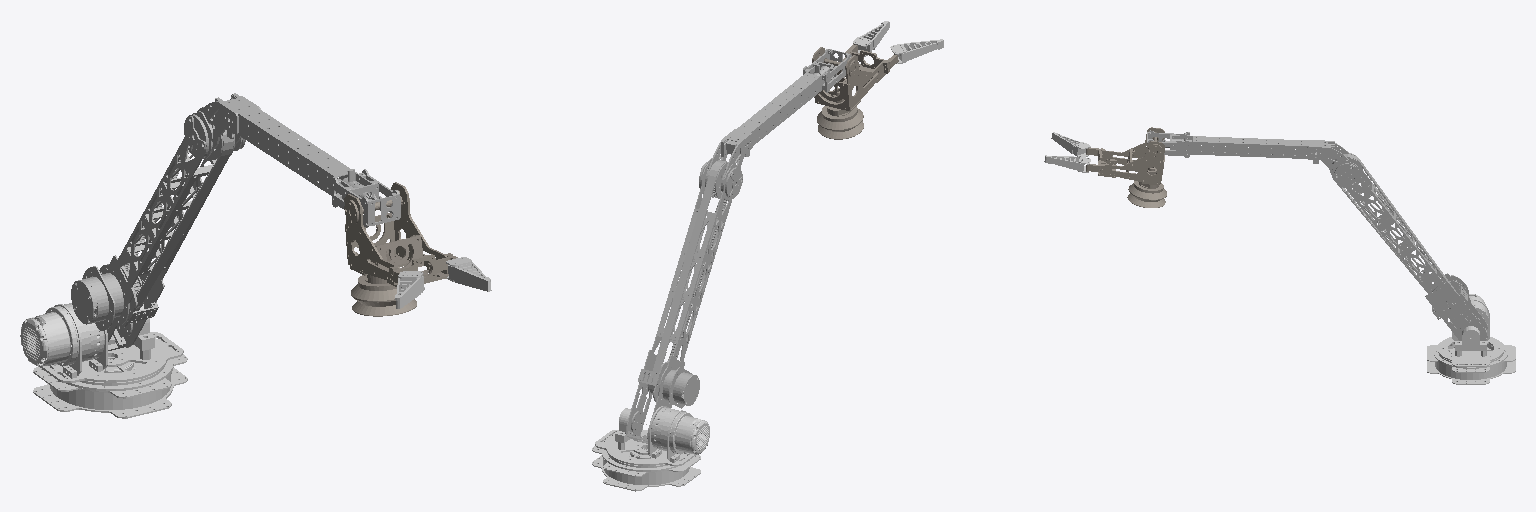
The robot description file, URDF, robot "arm_all":
<?xml version="1.0" encoding="utf-8" ?>
<!-- This URDF was automatically created by SolidWorks to URDF Exporter! Originally created by [author] ([email redacted]) 
     Commit Version: 1.6.0-4-g7f85cfe  Build Version: 1.6.7995.38578
     For more information, please see http://wiki.ros.org/sw_urdf_exporter -->
<robot name="arm_all">


<link name="world"/>

<joint name="fixed_base_joint" type="fixed">
    <parent link="world"/>
    <child link="base_link"/>
    <origin xyz="0 0 0" rpy="0 0 0"/>
</joint>


    <link name="base_link">
    <inertial>
      <origin
        xyz="-1.88965214434326E-05 0.0211283085658793 2.88501980018766E-05"
        rpy="0 0 0" />
      <mass
        value="0.65713178608687" />
      <inertia
        ixx="0.00126176729018005"
        ixy="2.52839018847434E-08"
        ixz="-3.62884926508966E-07"
        iyy="0.00249239605965953"
        iyz="-3.06356495865232E-08"
        izz="0.00125428302491633" />
    </inertial>
        <visual>
            <origin xyz="0 0 0" rpy="0 0 0" />
            <geometry>
                <mesh filename="package://arm_all/meshes/base_link.STL" />
            </geometry>
            <material name="">
                <color rgba="0.847058823529412 0.847058823529412 0.847058823529412 1" />
            </material>
        </visual>
        <collision>
            <origin xyz="0 0 0" rpy="0 0 0" />
            <geometry>
                <mesh filename="package://arm_all/meshes/base_link.STL" />
            </geometry>
        </collision>
    </link>
    <link name="link1">
    <inertial>
      <origin
        xyz="-6.50420272596414E-06 -0.0220639376985768 -0.00046997962461109"
        rpy="0 0 0" />
      <mass
        value="0.333784886280084" />
      <inertia
        ixx="0.000351722248401474"
        ixy="1.36600184498728E-12"
        ixz="-1.33484971668896E-10"
        iyy="0.000499503930329465"
        iyz="-1.63022774448878E-08"
        izz="0.000289258919735572" />
    </inertial>
        <visual>
            <origin xyz="0 0 0" rpy="0 0 0" />
            <geometry>
                <mesh filename="package://arm_all/meshes/link1.STL" />
            </geometry>
            <material name="">
                <color rgba="0.847058823529412 0.847058823529412 0.847058823529412 1" />
            </material>
        </visual>
        <collision>
            <origin xyz="0 0 0" rpy="0 0 0" />
            <geometry>
                <mesh filename="package://arm_all/meshes/link1.STL" />
            </geometry>
        </collision>
    </link>
    <joint name="joint1" type="continuous">
        <origin rpy="-1.5708 0 -1.5708" xyz="0 0 0.0413" />
        <parent link="base_link" />
        <child link="link1" />
        <axis xyz="0 1 0" />
    </joint>
    <!-- <joint name="joint1" type="revolute">
    <origin rpy="-1.5708 0 -1.5708" xyz="0 0 0.0413" />
    <parent link="base_link" />
    <child link="link1" />
    <axis xyz="0 1 0" />
    <limit lower="-3.14" upper="3.14" effort="10" velocity="1.0"/>
</joint> -->
    <link name="link2">
    <inertial>
      <origin
        xyz="0.134772098555545 0.226393581441748 0.00612814215173783"
        rpy="0 0 0" />
      <mass
        value="0.827122048748664" />
      <inertia
        ixx="0.00408491785355023"
        ixy="-0.00229408604342064"
        ixz="-1.21881927334501E-10"
        iyy="0.00160055805144718"
        iyz="-1.67553014233216E-08"
        izz="0.00555583774732216" />
    </inertial>
        <visual>
            <origin xyz="0 0 0" rpy="0 0 0" />
            <geometry>
                <mesh filename="package://arm_all/meshes/link2.STL" />
            </geometry>
            <material name="">
                <color rgba="0.752941176470588 0.752941176470588 0.752941176470588 1" />
            </material>
        </visual>
        <collision>
            <origin xyz="0 0 0" rpy="0 0 0" />
            <geometry>
                <mesh filename="package://arm_all/meshes/link2.STL" />
            </geometry>
        </collision>
    </link>
    <joint name="joint2" type="continuous">
        <origin xyz="0 -0.0449999999999999 0" rpy="3.14159265358979 0 0.0776243284743282" />
        <parent link="link1" />
        <child link="link2" />
        <axis xyz="0 0 1" />
    </joint>
        <!-- <joint name="joint2" type="revolute">
    <origin rpy="3.14159265358979 0 0.0776243284743282" xyz="0 -0.0449999999999999 0" />
    <parent link="link1" />
    <child link="link2" />
    <axis xyz="0 0 1" />
    <limit lower="-3.14" upper="3.14" effort="10" velocity="1.0"/>
</joint> -->
    <link name="link3">
    <inertial>
      <origin
        xyz="0.14609262858064 0.0573447220053238 -1.32103128163748E-05"
        rpy="0 0 0" />
      <mass
        value="0.322775937743134" />
      <inertia
        ixx="0.000125581010505456"
        ixy="-0.000175503683436308"
        ixz="-1.0080412736428E-11"
        iyy="0.00102950672738152"
        iyz="6.86215120964268E-11"
        izz="0.00111046718193839" />
    </inertial>
        <visual>
            <origin xyz="0 0 0" rpy="0 0 0" />
            <geometry>
                <mesh filename="package://arm_all/meshes/link3.STL" />
            </geometry>
            <material name="">
                <color rgba="0.752941176470588 0.752941176470588 0.752941176470588 1" />
            </material>
        </visual>
        <collision>
            <origin xyz="0 0 0" rpy="0 0 0" />
            <geometry>
                <mesh filename="package://arm_all/meshes/link3.STL" />
            </geometry>
        </collision>
    </link>
    <joint name="joint3" type="continuous">
        <origin xyz="0.234710656582035 0.393966153099294 0" rpy="0 0 -0.0458697032339479" />
        <parent link="link2" />
        <child link="link3" />
        <axis xyz="0 0 1" />
    </joint>
            <!-- <joint name="joint3" type="revolute">
    <origin rpy="0 0 -0.0458697032339479" xyz="0.234710656582035 0.393966153099294 0" />
    <parent link="link2" />
    <child link="link3" />
    <axis xyz="0 0 1" />
    <limit lower="-3.14" upper="3.14" effort="10" velocity="1.0"/>
</joint> -->
    <link name="link4">
    <inertial>
      <origin
        xyz="-0.0483821633151282 -0.0245616027376705 1.07514025356192E-05"
        rpy="0 0 0" />
      <mass
        value="0.377132174594097" />
      <inertia
        ixx="0.000259104564788337"
        ixy="-3.47286921823512E-05"
        ixz="-6.33132149766361E-09"
        iyy="0.000192115538025694"
        iyz="2.31982726278168E-07"
        izz="0.000221724975669375" />
    </inertial>
        <visual>
            <origin xyz="0 0 0" rpy="0 0 0" />
            <geometry>
                <mesh filename="package://arm_all/meshes/link4.STL" />
            </geometry>
            <material name="">
                <color rgba="0.647058823529412 0.619607843137255 0.588235294117647 1" />
            </material>
        </visual>
        <collision>
            <origin xyz="0 0 0" rpy="0 0 0" />
            <geometry>
                <mesh filename="package://arm_all/meshes/link4.STL" />
            </geometry>
        </collision>
    </link>
    <joint name="joint4" type="continuous">
        <origin xyz="0.399188356386981 0.112595227473441 0" rpy="0 0 1.80974775191367" />
        <parent link="link3" />
        <child link="link4" />
        <axis xyz="0 0 1" />
    </joint>
                <!-- <joint name="joint4" type="revolute">
        <origin xyz="0.399188356386981 0.112595227473441 0" rpy="0 0 1.80974775191367" />
    <parent link="link3" />
    <child link="link4" />
    <axis xyz="0 0 1" />
    <limit lower="-3.14" upper="3.14" effort="10" velocity="1.0"/>
</joint> -->
    <link name="left_end">
    <inertial>
      <origin
        xyz="0.165934470985643 0.0326110187543487 -0.0559999994890883"
        rpy="0 0 0" />
      <mass
        value="0.0230133687347436" />
      <inertia
        ixx="1.91581568607213E-06"
        ixy="1.58592840958828E-07"
        ixz="-4.59298269044332E-13"
        iyy="1.08150257266556E-05"
        iyz="-6.52852556405479E-14"
        izz="1.18994762991137E-05" />
    </inertial>
        <visual>
            <origin xyz="0 0 0" rpy="0 0 0" />
            <geometry>
                <mesh filename="package://arm_all/meshes/left_end.STL" />
            </geometry>
            <material name="">
                <color rgba="0.847058823529412 0.847058823529412 0.847058823529412 1" />
            </material>
        </visual>
        <collision>
            <origin xyz="0 0 0" rpy="0 0 0" />
            <geometry>
                <mesh filename="package://arm_all/meshes/left_end.STL" />
            </geometry>
        </collision>
    </link>
    <joint name="joint5" type="continuous">
        <origin xyz="0 0 -0.0066881981068947" rpy="-1.5707963267949 -0.0524449607991221 -1.54351099917729" />
        <parent link="link4" />
        <child link="left_end" />
        <axis xyz="0 0 1" />
    </joint>
<!-- <joint name="joint5" type="revolute">
        <origin xyz="0 0 -0.0066881981068947" rpy="-1.5707963267949 -0.0524449607991221 -1.54351099917729" />
    <parent link="link4" />
    <child link="left_end" />
    <axis xyz="0 0 1" />
    <limit lower="-3.14" upper="3.14" effort="10" velocity="1.0"/>
</joint> -->
    <link name="right_end">
    <inertial>
      <origin
        xyz="0.149189877500569 -0.0829023910248987 0.0559999993539835"
        rpy="0 0 0" />
      <mass
        value="0.0230133523586075" />
      <inertia
        ixx="1.91581658865105E-06"
        ixy="1.58594185971336E-07"
        ixz="4.13809191819123E-13"
        iyy="1.08149990275717E-05"
        iyz="1.72820988049209E-13"
        izz="1.18994508373215E-05" />
    </inertial>
        <visual>
            <origin xyz="0 0 0" rpy="0 0 0" />
            <geometry>
                <mesh filename="package://arm_all/meshes/right_end.STL" />
            </geometry>
            <material name="">
                <color rgba="0.847058823529412 0.847058823529412 0.847058823529412 1" />
            </material>
        </visual>
        <collision>
            <origin xyz="0 0 0" rpy="0 0 0" />
            <geometry>
                <mesh filename="package://arm_all/meshes/right_end.STL" />
            </geometry>
        </collision>
    </link>
    <joint name="joint6" type="continuous">
        <origin xyz="0 0 0.01744" rpy="1.5708 -0.7251 -1.5435" />
        <parent link="link4" />
        <child link="right_end" />
        <axis xyz="0 0 -1" />
    </joint>
<!-- <joint name="joint6" type="revolute">
        <origin xyz="0 0 0.01744" rpy="1.5708 -0.7251 -1.5435" />
    <parent link="link4" />
    <child link="right_end" />
    <axis xyz="0 0 -1" />
    <limit lower="-3.14" upper="3.14" effort="10" velocity="1.0"/>
</joint> -->
    


    
</robot>

--- What the picture shows (computed from the rendered views, not written in the file) ---
3 views of the same robot in one strip: view 1: azimuth 30°, elevation 25°; view 2: azimuth 150°, elevation 25°; view 3: azimuth 270°, elevation 25° (orthographic).
Model arm_all with 8 links and 7 joints (6 continuous, 1 fixed), rooted at world, posed all joints at 0.
Links seen in each view (by area): view 1: link2, link3, link1, link4, base_link, left_end, right_end; view 2: link2, link3, link1, link4, base_link, right_end, left_end; view 3: link2, link3, link4, link1, base_link.
Link boxes in pixels (x1=…): link2: x1=71, y1=107, x2=245, y2=350; link3: x1=197, y1=93, x2=400, y2=227; link1: x1=20, y1=303, x2=183, y2=382; link4: x1=344, y1=182, x2=457, y2=316; base_link: x1=33, y1=339, x2=187, y2=418; left_end: x1=446, y1=257, x2=491, y2=291; right_end: x1=395, y1=271, x2=424, y2=308; link2: x1=625, y1=158, x2=742, y2=443; link3: x1=705, y1=49, x2=851, y2=198; link1: x1=595, y1=406, x2=709, y2=465; link4: x1=812, y1=44, x2=898, y2=139; base_link: x1=592, y1=435, x2=700, y2=491; right_end: x1=890, y1=39, x2=943, y2=63; left_end: x1=853, y1=21, x2=889, y2=56; link2: x1=1331, y1=153, x2=1487, y2=340; link3: x1=1147, y1=130, x2=1362, y2=180; link4: x1=1086, y1=127, x2=1166, y2=207; link1: x1=1438, y1=294, x2=1504, y2=366; base_link: x1=1427, y1=343, x2=1515, y2=384.
Bounding box of the posed robot: 0.2112 × 1.01 × 0.5538 m (x, y, z).
Meshes: 7 distinct files referenced, 7 mesh visuals loaded (7 binary STL).